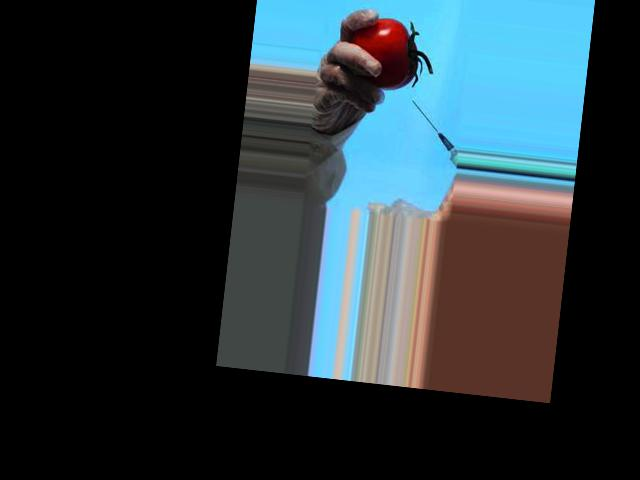tomato: (345, 13, 421, 91)
